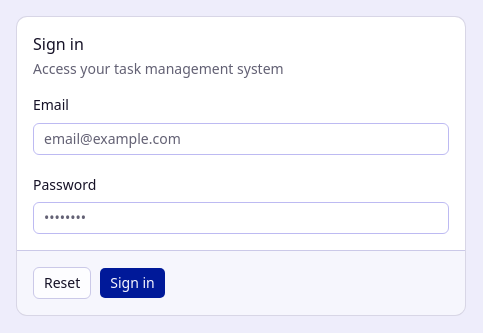
Scenario: LoginPage › resets the form when clicking reset
The width and height of the screenshot is (483, 333).
Type "test@example.com" into the field labelled "Email".
click(241, 138); type("test@example.com")  # box x1=33 y1=122 x2=449 y2=154
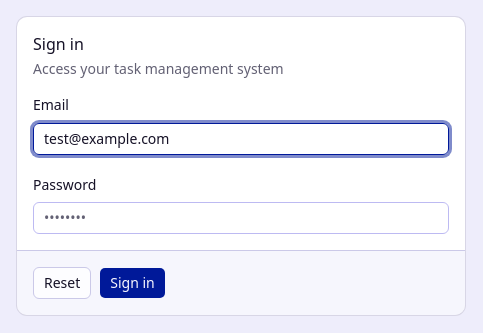
Type "123456" into the password field labelled "Password".
click(241, 218); type("123456")  # box x1=33 y1=202 x2=449 y2=234
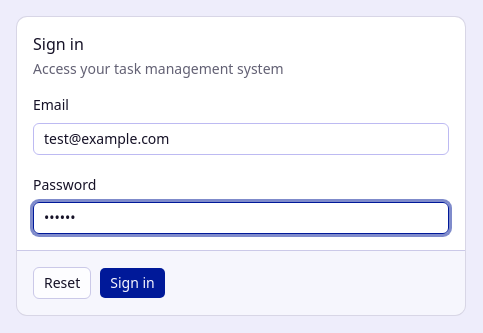
Click the button "Reset".
click(62, 283)  # box x1=33 y1=267 x2=91 y2=299
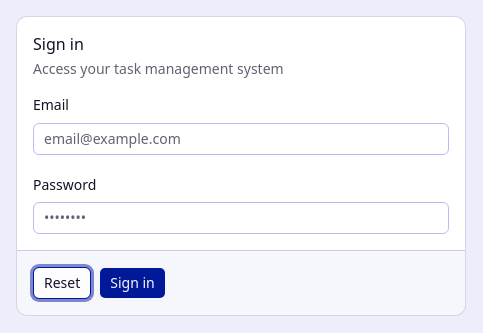
Now the field labelled "Email" is empty, box x1=33 y1=122 x2=449 y2=154
Now the password field labelled "Password" is empty, box x1=33 y1=202 x2=449 y2=234
